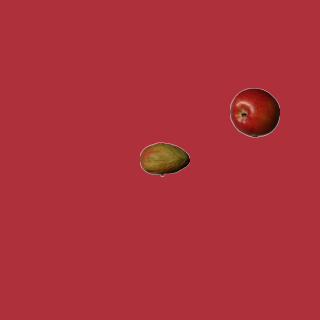Apple Braeburn: (229, 87, 279, 137)
Papaya: (139, 134, 189, 184)
